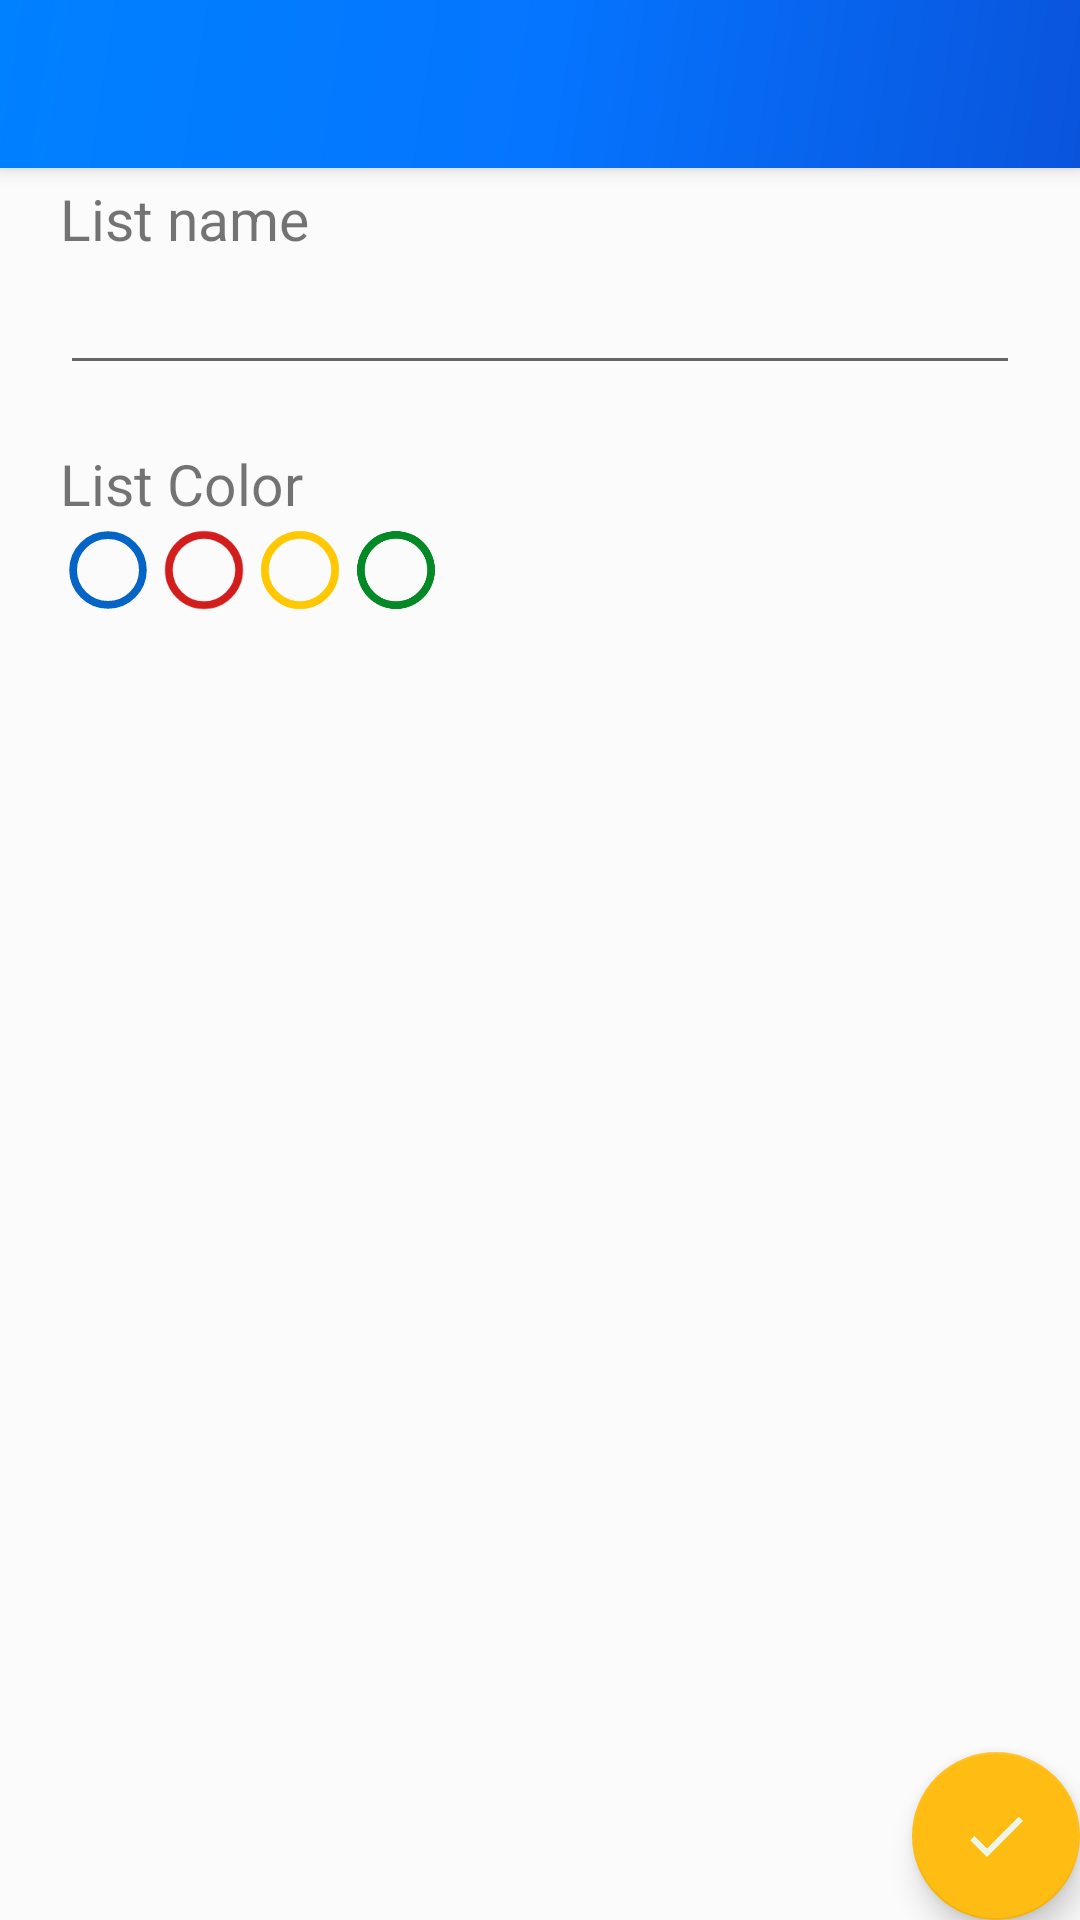

Locate icon controls on the screen. Image size 1080 x 1920, boxes as [x1=x1, y1=y1, x2=x2, y2=y2].
done: [x1=912, y1=1752, x2=1080, y2=1920]
